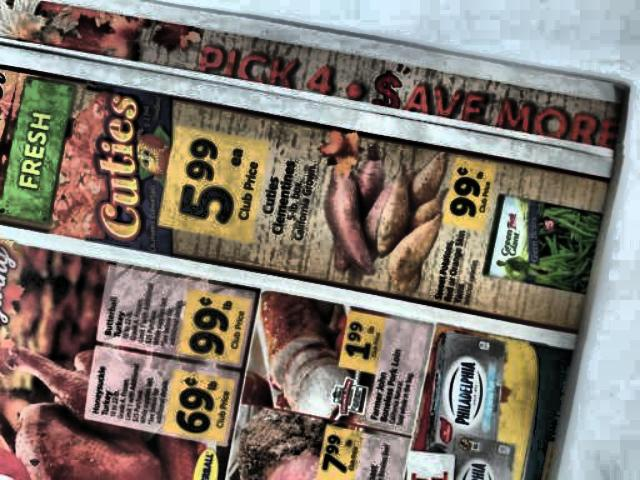Paper: (0, 0, 632, 480)
